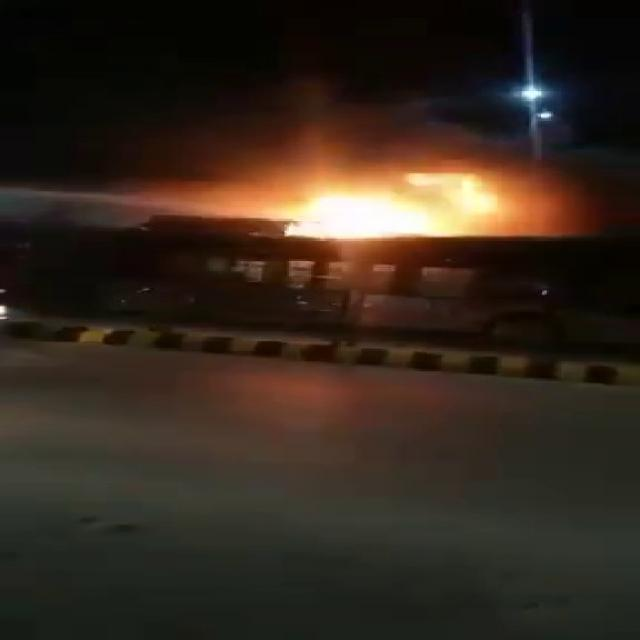Fire: (269, 176, 496, 240)
